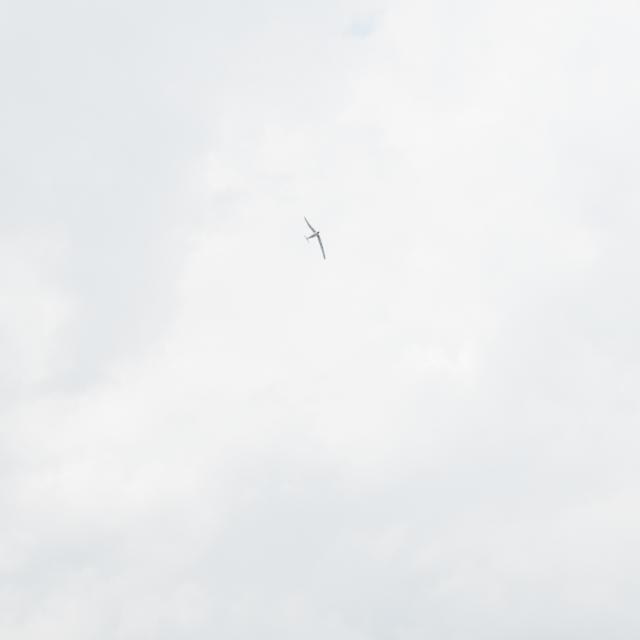Airaplan: (303, 216, 326, 260)
